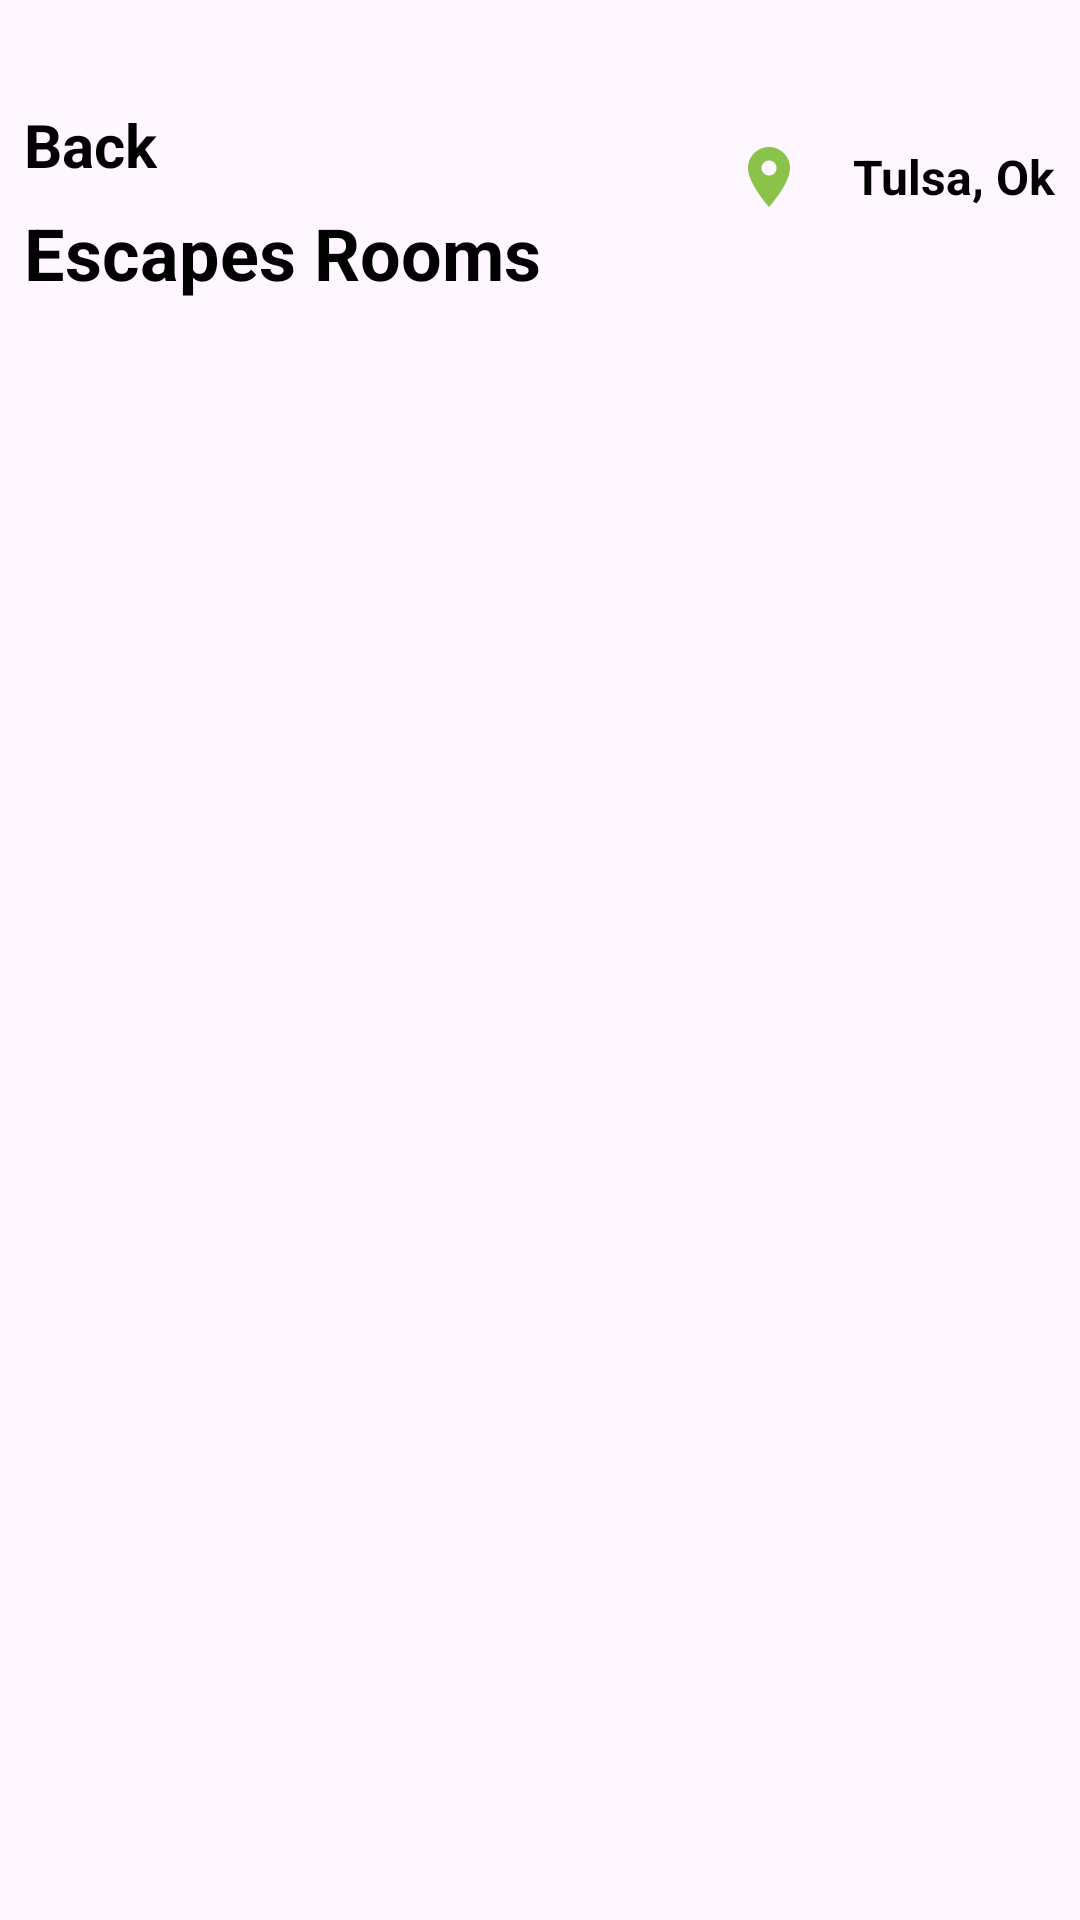

Screen size 1080 × 1920. Icon name, then its box in pixels as rect(x1, y1, x2, y2):
location pin: rect(748, 147, 790, 207)
